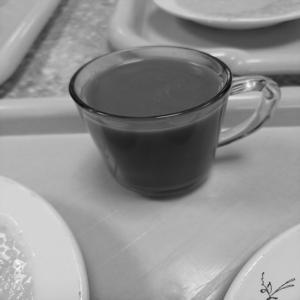coffee: (40, 31, 290, 223)
